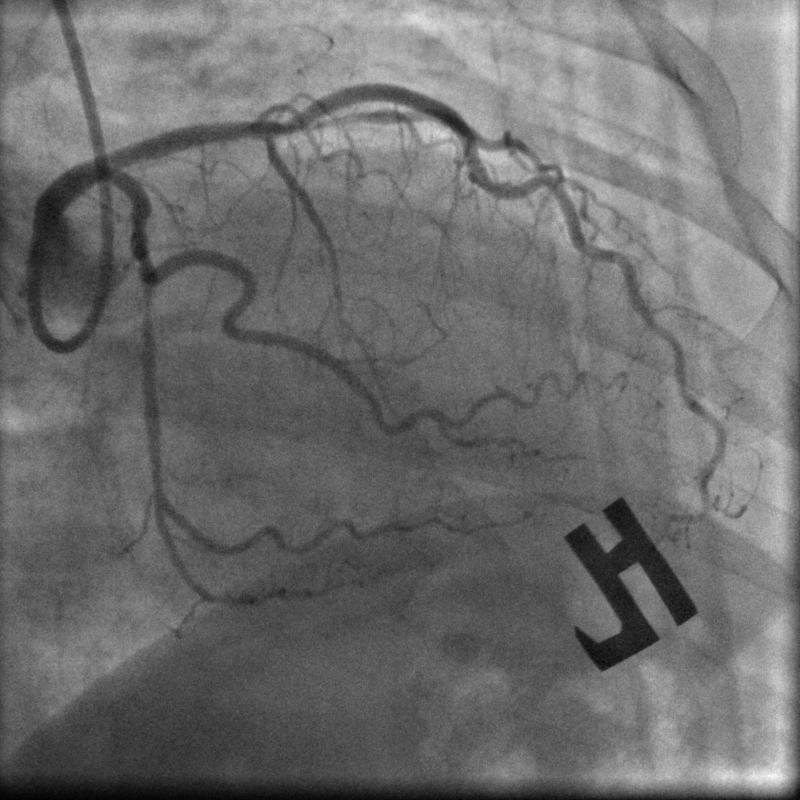Stenosis: (127, 205, 160, 284)
